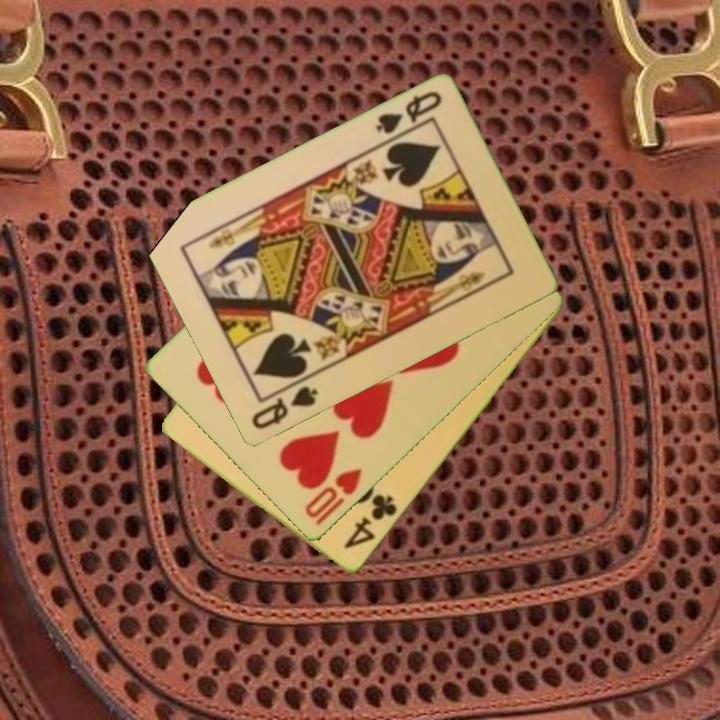10h: (301, 465, 365, 530)
4c: (340, 491, 400, 553)
Qs: (371, 88, 445, 145), (248, 383, 321, 433)
